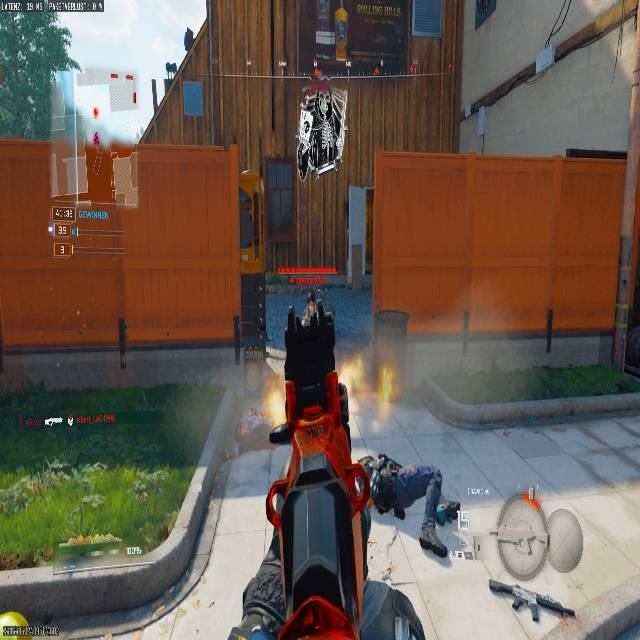player: (299, 289, 326, 325), (90, 118, 104, 144)
